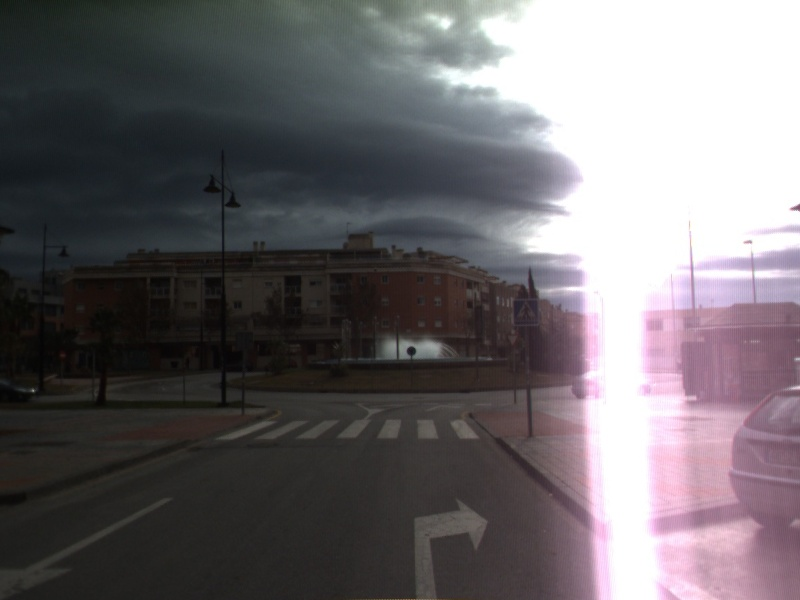RIGHT: (410, 493, 492, 600)
